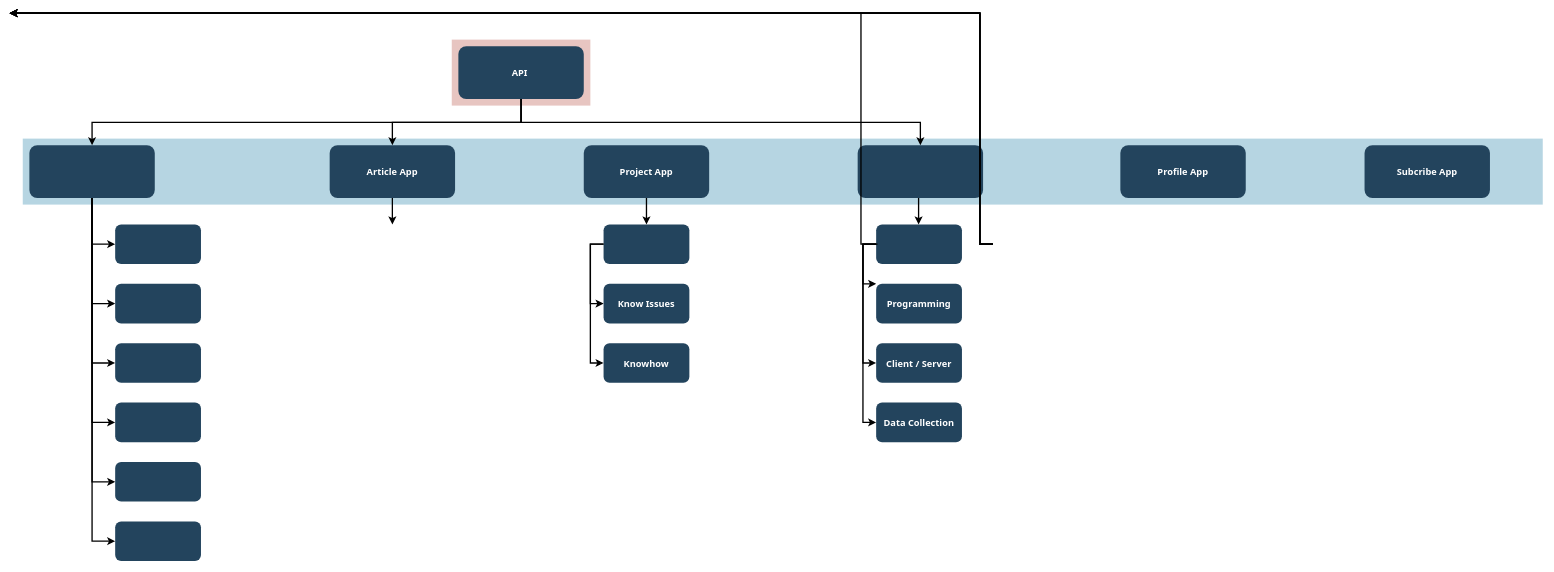
The diagram is 1554 pixels wide and 572 high, and some of its shapes have lost their labels. The centre of each missing label's shape, as x and y in pixels:
Accounts App: (91,171)
Comment: (920,171)
FAQ: (646,244)
SI: (919,244)
